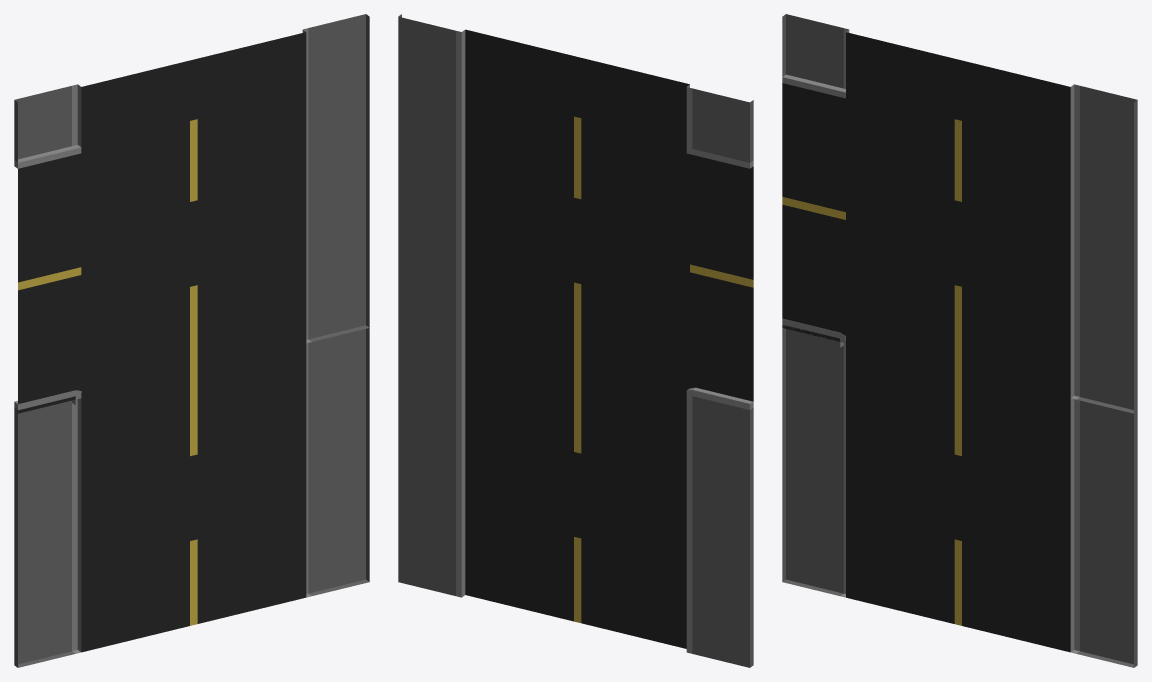
Rendered from Road_Junction.fbx.
3 renders of one model, left to right at view 1: azimuth 30°, elevation 25°; view 2: azimuth 150°, elevation 25°; view 3: azimuth 330°, elevation 25°, orthographic.
Visible parts, largest first — view 1: Road_Junction, Road_Junction_pavement; view 2: Road_Junction, Road_Junction_pavement; view 3: Road_Junction, Road_Junction_pavement.
Part boxes in pixels (x1=…): Road_Junction: x1=18, y1=32, x2=306, y2=652; Road_Junction_pavement: x1=14, y1=14, x2=369, y2=667; Road_Junction: x1=465, y1=29, x2=753, y2=648; Road_Junction_pavement: x1=398, y1=14, x2=753, y2=667; Road_Junction: x1=782, y1=32, x2=1070, y2=652; Road_Junction_pavement: x1=782, y1=14, x2=1137, y2=667.
Bounding box in the file's own units: 1069 × 1642 × 19.69.
